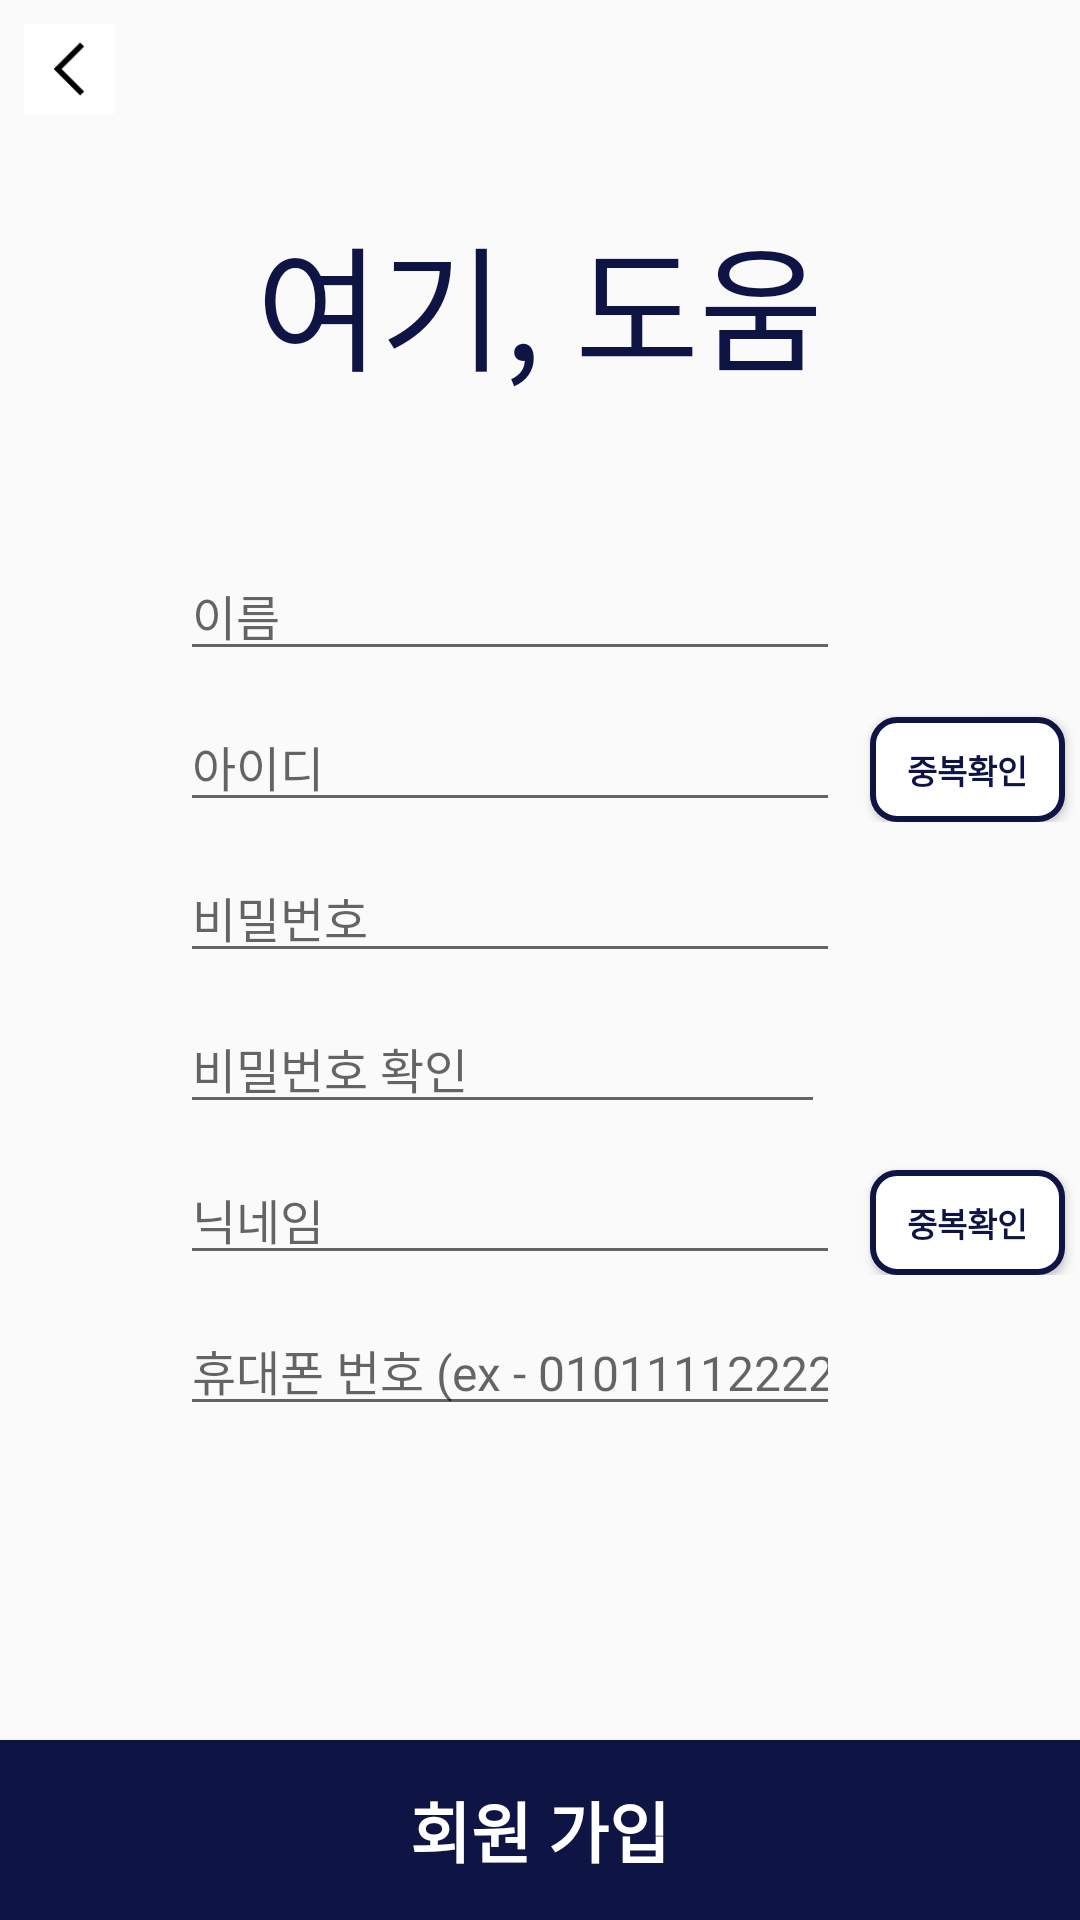

Screen size 1080w x 1920h. Icon name, then its center in pixels as (x,y):
go to back: (69,69)
